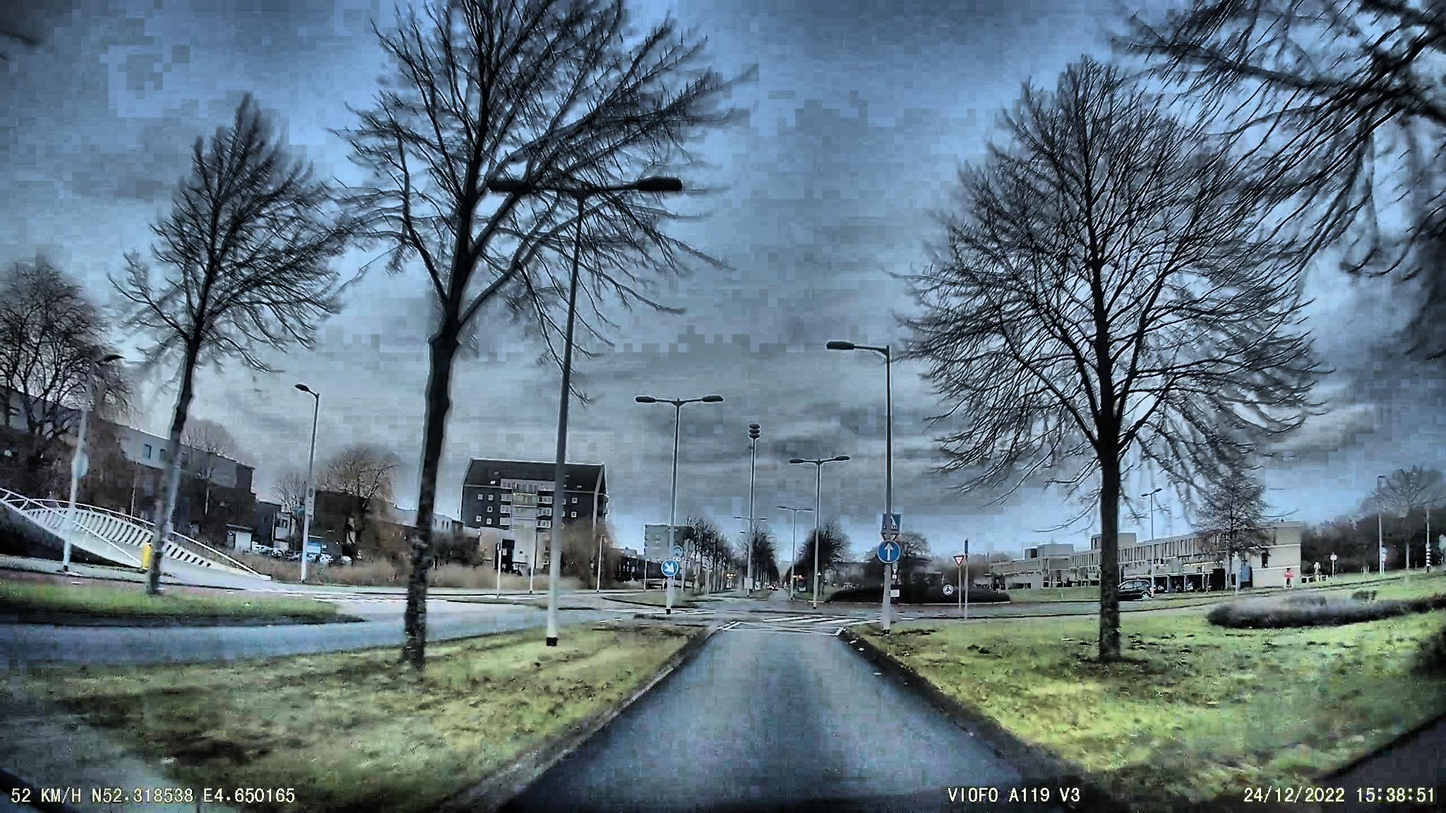Roads: (522, 628, 1077, 813)
